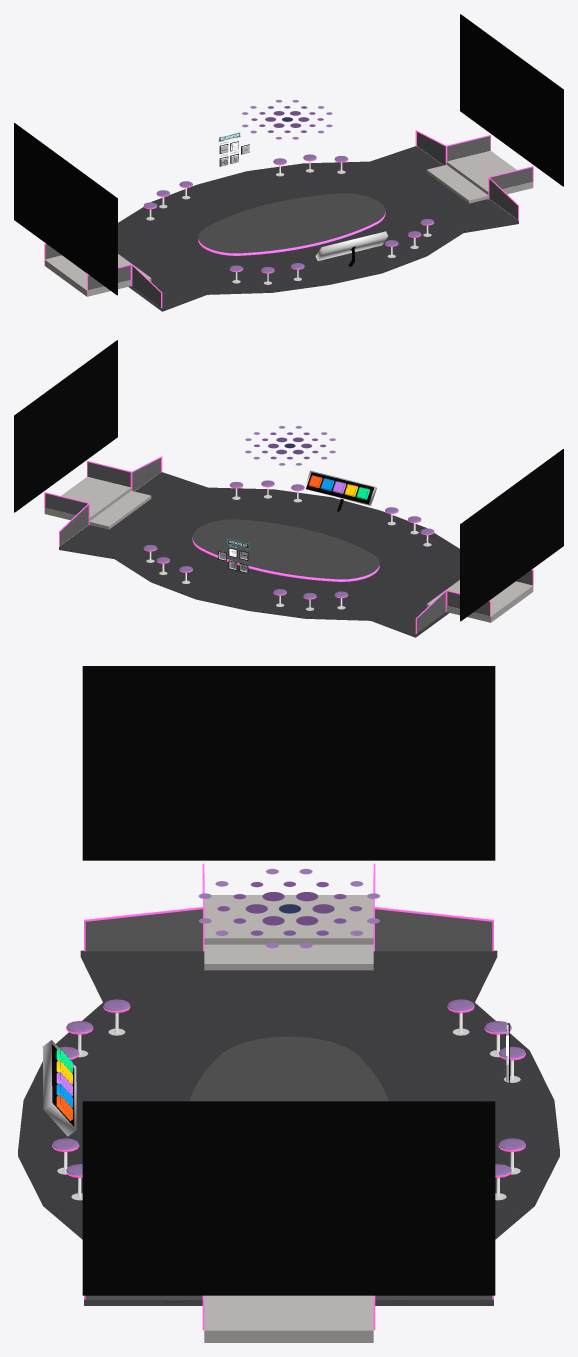
File: P04_PARTY_MODE.glb
3 views of the same model, one above another, from view 1: azimuth 30°, elevation 25°; view 2: azimuth 150°, elevation 25°; view 3: azimuth 270°, elevation 25° (orthographic). The views are drawn at different scales.
Visible parts, largest first — view 1: p04_floor_001.001, p04_tv_002.001, p04_tv_001.002, p04_glass_floor.002, p04_stairs_001.001, p04_railing_001.002, p04_railing_002.002, p04_bar_chair_001.001, p04_Ringbuttons.001, p04_logo_MRCgroup_001.001, p04_bar_chair_002.001, p04_t_buttons_01.003 (+1 smaller); view 2: p04_floor_001.001, p04_tv_002.001, p04_tv_001.002, p04_glass_floor.002, p04_stairs_001.001, p04_railing_001.002, p04_railing_002.002, p04_buttons.002, p04_bar_chair_001.001, p04_logo_MRCgroup_001.001, p04_bar_chair_002.001, p04_t_buttons_01.003 (+1 smaller); view 3: p04_tv_002.001, p04_tv_001.002, p04_floor_001.001, p04_stairs_001.001, p04_glass_floor.002, p04_railing_002.002, p04_logo_MRCgroup_001.001, p04_bar_chair_001.001, p04_buttons.002, p04_bar_chair_002.001, p04_Ringbuttons.001, p04_railing_003.002.
Part boxes in pixels (x1,y1,x2,y2): p04_floor_001.001: (118,146,518,311); p04_tv_002.001: (460,14,563,186); p04_tv_001.002: (14,123,117,295); p04_glass_floor.002: (198,193,385,255); p04_stairs_001.001: (44,151,533,296); p04_railing_001.002: (45,136,532,290); p04_railing_002.002: (132,132,517,306); p04_bar_chair_001.001: (143,154,434,273); p04_Ringbuttons.001: (315,231,388,260); p04_logo_MRCgroup_001.001: (242,100,332,139); p04_bar_chair_002.001: (146,161,431,284); p04_t_buttons_01.003: (219,141,249,166); p04_floor_001.001: (59,472,459,637); p04_tv_002.001: (14,340,117,512); p04_tv_001.002: (460,449,563,621); p04_glass_floor.002: (192,519,379,581); p04_stairs_001.001: (44,477,533,622); p04_railing_001.002: (45,462,532,616); p04_railing_002.002: (60,458,445,632); p04_buttons.002: (306,472,374,511); p04_bar_chair_001.001: (143,480,434,599); p04_logo_MRCgroup_001.001: (245,426,335,465); p04_bar_chair_002.001: (146,487,431,610); p04_t_buttons_01.003: (218,548,248,573); p04_tv_002.001: (82,1101,495,1295); p04_tv_001.002: (82,666,495,860); p04_floor_001.001: (18,950,559,1305); p04_stairs_001.001: (204,895,373,1342); p04_glass_floor.002: (189,1036,388,1101); p04_railing_002.002: (85,909,492,1299); p04_logo_MRCgroup_001.001: (198,869,379,948); p04_bar_chair_001.001: (52,999,525,1177); p04_buttons.002: (52,1044,74,1126); p04_bar_chair_002.001: (57,1013,520,1200); p04_Ringbuttons.001: (42,1040,76,1136); p04_railing_003.002: (84,907,493,1299).
Size of what is drawn, in the model's own units: 28.14 by 7.44 by 14.78.
Materials: 9 (9 with a texture image).
